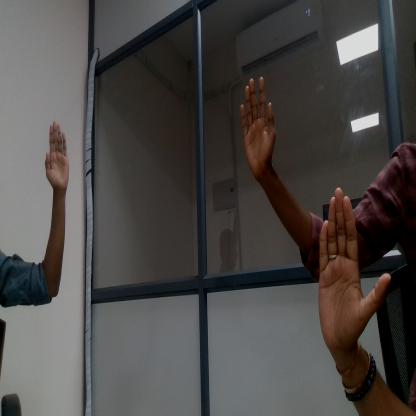Stop: (316, 188, 374, 360), (230, 73, 275, 171), (40, 115, 80, 190)
